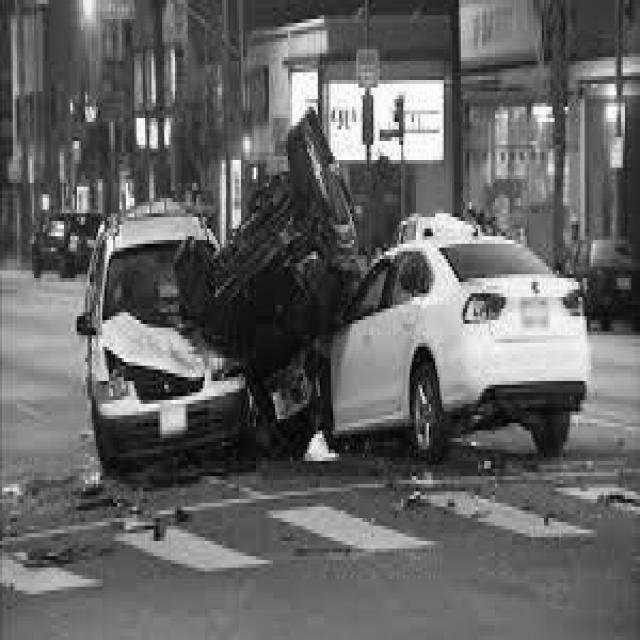accident: (80, 110, 590, 461)
vehicle: (560, 213, 640, 338), (17, 190, 101, 292)
